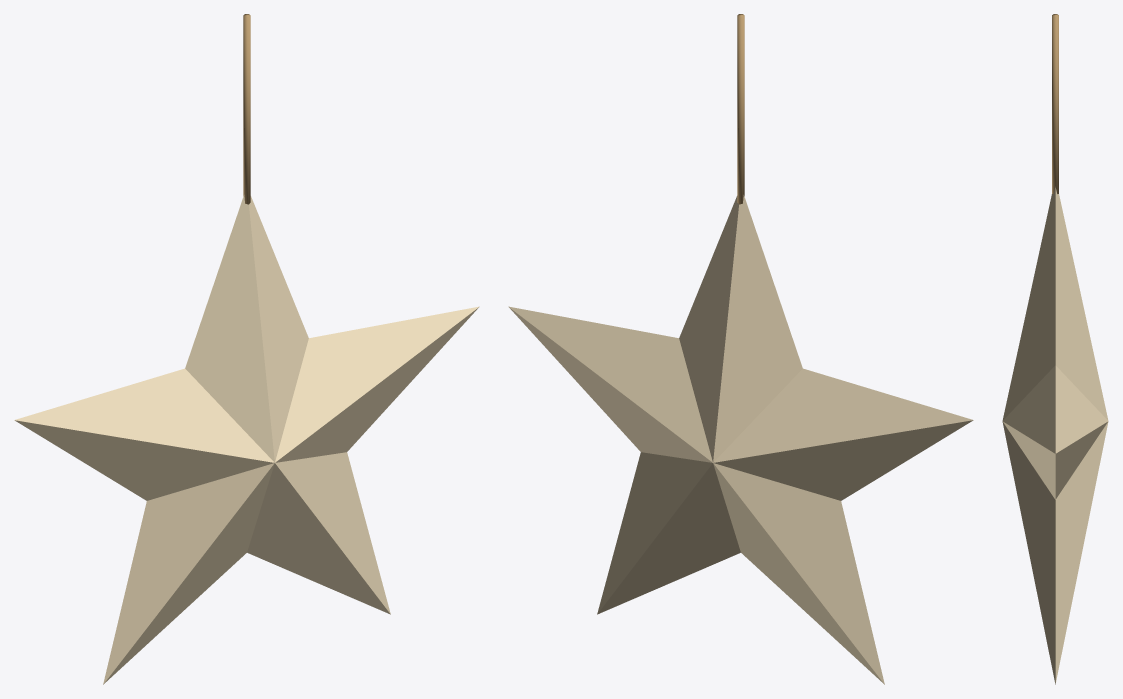
The model's file is window_star.glb.
The picture shows the model from 3 angles, left to right: view 1: azimuth 30°, elevation 25°; view 2: azimuth 150°, elevation 25°; view 3: azimuth 270°, elevation 25°; orthographic projection. The views are drawn at different scales.
Visible parts, largest first — view 1: window_star__bulb0, window_star__body; view 2: window_star__bulb0, window_star__body; view 3: window_star__bulb0, window_star__body.
Boxes of the visible parts, x1,y1,x2,y2 form: window_star__bulb0: [14, 195, 479, 684]; window_star__body: [243, 14, 250, 204]; window_star__bulb0: [508, 195, 973, 684]; window_star__body: [737, 14, 744, 204]; window_star__bulb0: [1002, 186, 1108, 684]; window_star__body: [1052, 14, 1058, 193].
Bounding box in the file's own units: 0.4337 × 0.5645 × 0.09.
